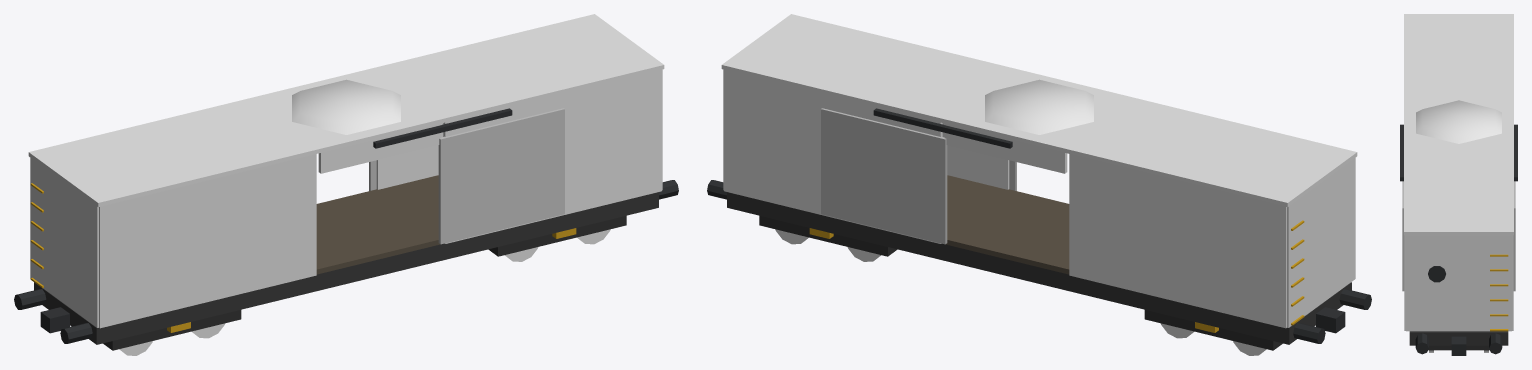
File: boxcar.glb
3 views of the same model, side by side, from view 1: azimuth 30°, elevation 25°; view 2: azimuth 150°, elevation 25°; view 3: azimuth 270°, elevation 25° (orthographic). The views are drawn at different scales.
Visible parts, largest first — view 1: Piece_lod0; view 2: Piece_lod0; view 3: Piece_lod0.
Boxes of the visible parts, box(x1,y1,x2,y2) form: Piece_lod0: box(14, 14, 678, 355); Piece_lod0: box(707, 14, 1371, 355); Piece_lod0: box(1400, 14, 1517, 355).
Size of what is drawn, in the model's own units: 15.2 by 4.45 by 3.22.
